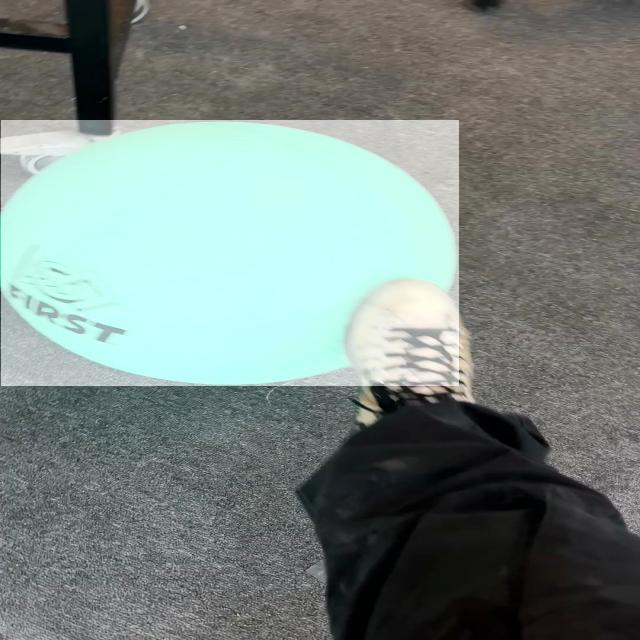Algae: (1, 120, 459, 386)
